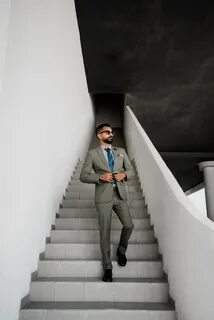awake: (79, 122, 136, 282)
